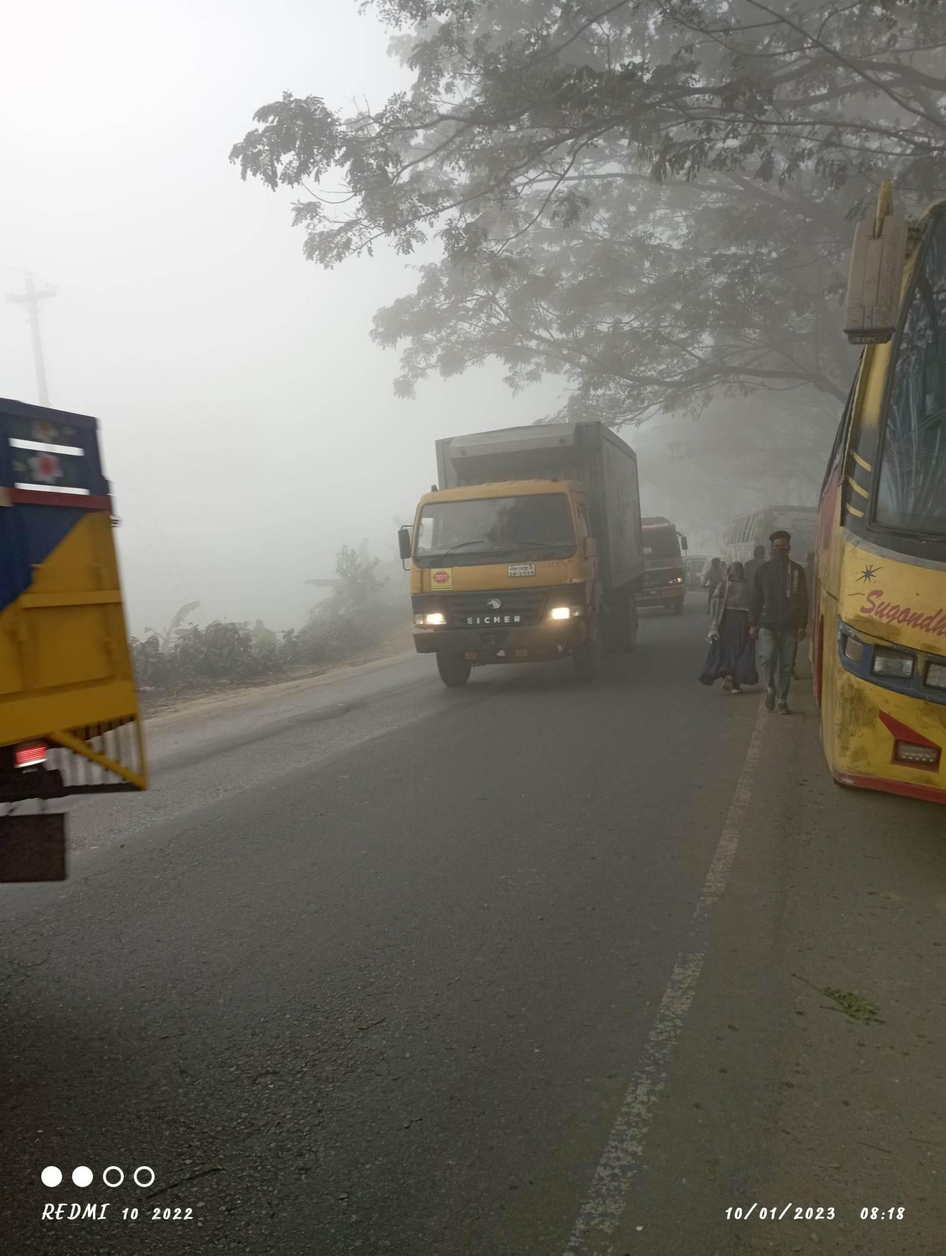Bus: (790, 158, 939, 849), (724, 497, 828, 625)
Truck: (398, 391, 649, 680), (641, 499, 705, 628)
